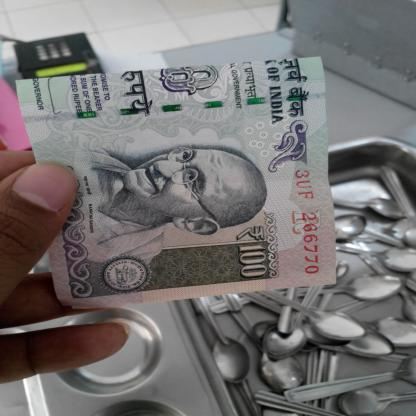Old100Front: (15, 56, 337, 311)
